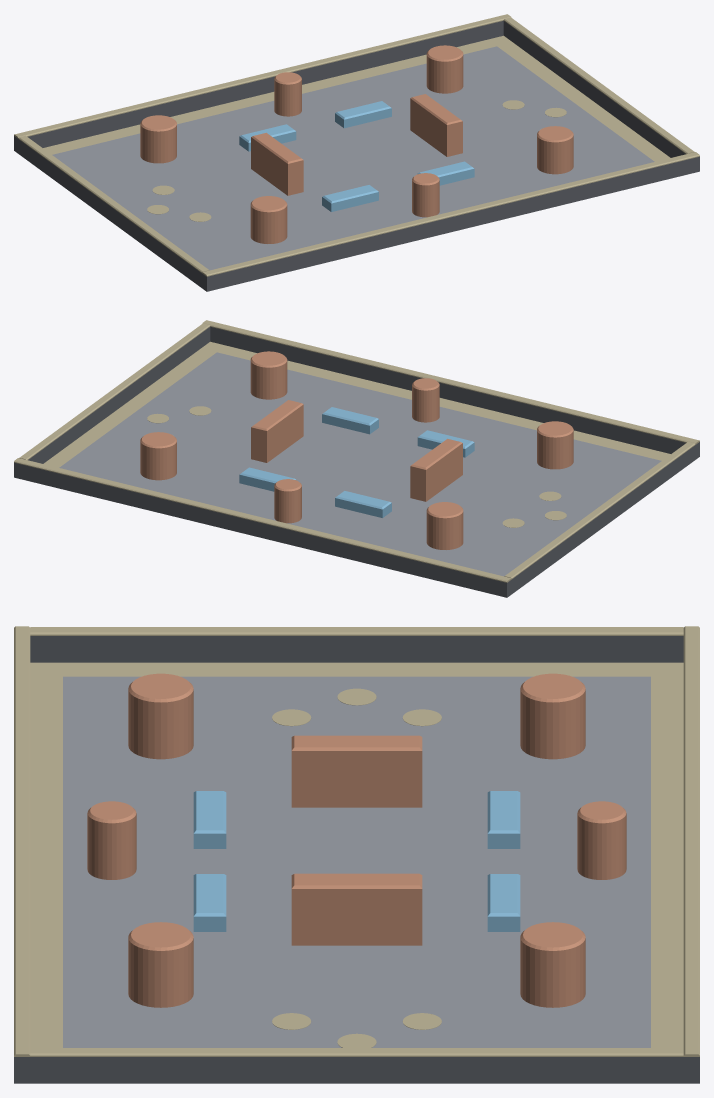
The model's file is arena02.glb.
The picture shows the model from 3 angles, top to bottom: view 1: azimuth 30°, elevation 25°; view 2: azimuth 150°, elevation 25°; view 3: azimuth 270°, elevation 25°; orthographic projection. The views are drawn at different scales.
Visible parts, largest first — view 1: Floor, Wall_S, Wall_N, Wall_W, Wall_E, Obstacle_0, Obstacle_1, Obstacle_3, Obstacle_4, Obstacle_2, Obstacle_5, Obstacle_6 (+5 smaller); view 2: Floor, Wall_N, Wall_S, Wall_W, Wall_E, Obstacle_0, Obstacle_1, Obstacle_5, Obstacle_2, Obstacle_4, Obstacle_3, Obstacle_7 (+5 smaller); view 3: Floor, Wall_E, Wall_W, Obstacle_0, Obstacle_1, Wall_N, Wall_S, Obstacle_2, Obstacle_4, Obstacle_3, Obstacle_5, Obstacle_6 (+5 smaller).
Boxes of the visible parts, bbox=[...] form: Floor: bbox=[43, 35, 670, 270]; Wall_S: bbox=[202, 152, 699, 291]; Wall_N: bbox=[14, 14, 511, 153]; Wall_W: bbox=[18, 135, 209, 287]; Wall_E: bbox=[503, 17, 694, 157]; Obstacle_0: bbox=[251, 132, 303, 195]; Obstacle_1: bbox=[410, 94, 462, 156]; Obstacle_3: bbox=[426, 45, 463, 93]; Obstacle_4: bbox=[250, 196, 287, 243]; Obstacle_2: bbox=[140, 115, 176, 163]; Obstacle_5: bbox=[537, 126, 573, 174]; Obstacle_6: bbox=[274, 72, 301, 116]; Floor: bbox=[43, 341, 670, 576]; Wall_N: bbox=[14, 458, 511, 597]; Wall_S: bbox=[202, 320, 699, 459]; Wall_W: bbox=[504, 441, 695, 593]; Wall_E: bbox=[19, 323, 210, 463]; Obstacle_0: bbox=[410, 438, 462, 501]; Obstacle_1: bbox=[251, 400, 303, 462]; Obstacle_5: bbox=[250, 351, 287, 399]; Obstacle_2: bbox=[426, 502, 463, 549]; Obstacle_4: bbox=[537, 421, 573, 469]; Obstacle_3: bbox=[140, 432, 176, 480]; Obstacle_7: bbox=[412, 378, 439, 422]; Floor: bbox=[30, 662, 683, 1047]; Wall_E: bbox=[30, 1048, 683, 1083]; Wall_W: bbox=[30, 627, 683, 662]; Obstacle_0: bbox=[291, 735, 422, 807]; Obstacle_1: bbox=[291, 873, 422, 945]; Wall_N: bbox=[683, 626, 699, 1083]; Wall_S: bbox=[14, 626, 30, 1083]; Obstacle_2: bbox=[520, 673, 585, 759]; Obstacle_4: bbox=[128, 673, 193, 759]; Obstacle_3: bbox=[520, 922, 585, 1007]; Obstacle_5: bbox=[128, 922, 193, 1007]; Obstacle_6: bbox=[577, 801, 626, 879].
Bounding box in the file's own units: 31 × 2.2 × 21.
